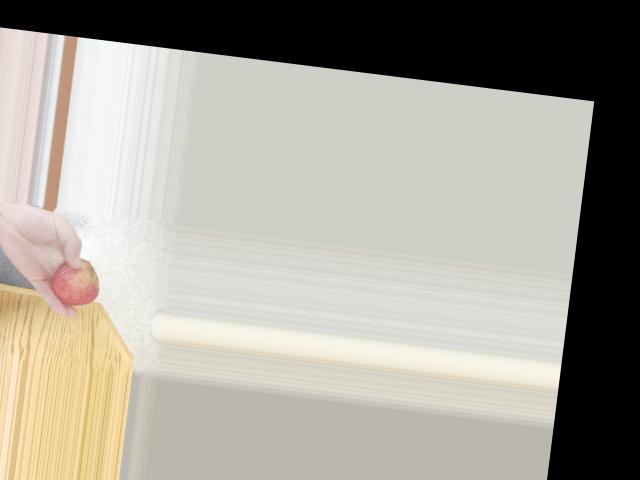apple: (46, 256, 105, 309)
